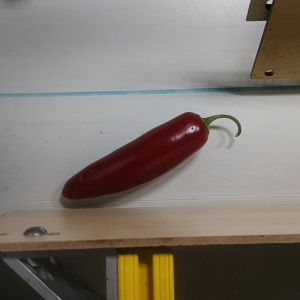Cut Point: (185, 110, 218, 145)
